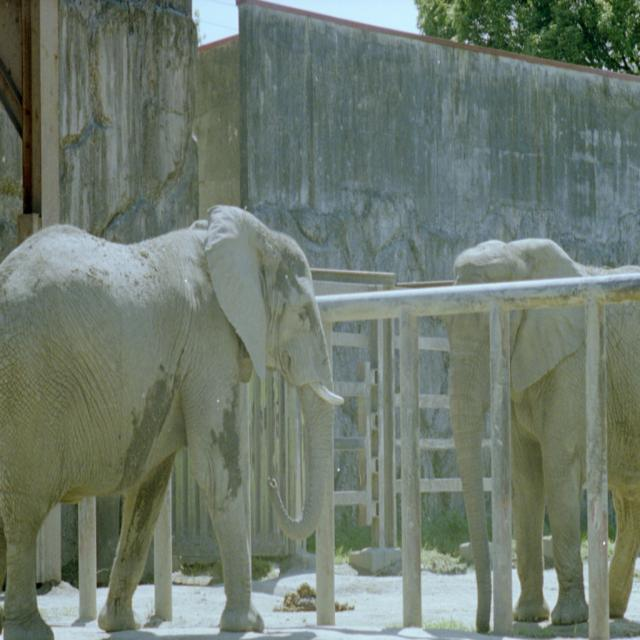elephant: (1, 188, 373, 640), (446, 236, 640, 628)
